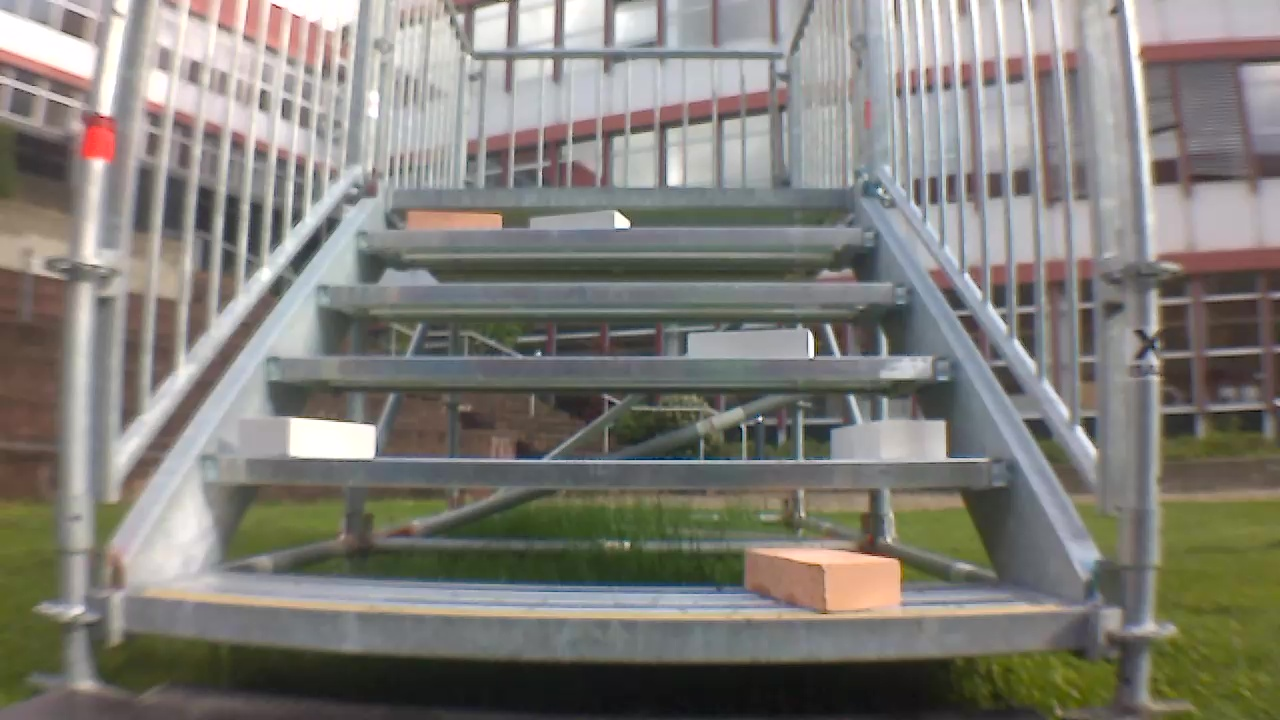brick: (745, 546, 901, 614), (240, 417, 375, 457), (831, 420, 945, 461), (689, 329, 814, 359), (528, 210, 629, 229), (407, 211, 501, 228)
edge: (125, 595, 1088, 662), (203, 457, 1007, 488), (269, 355, 965, 382), (319, 281, 910, 305), (357, 228, 878, 247), (393, 187, 854, 207)
stairs: (32, 2, 1164, 712)
steps: (116, 182, 1097, 677)
